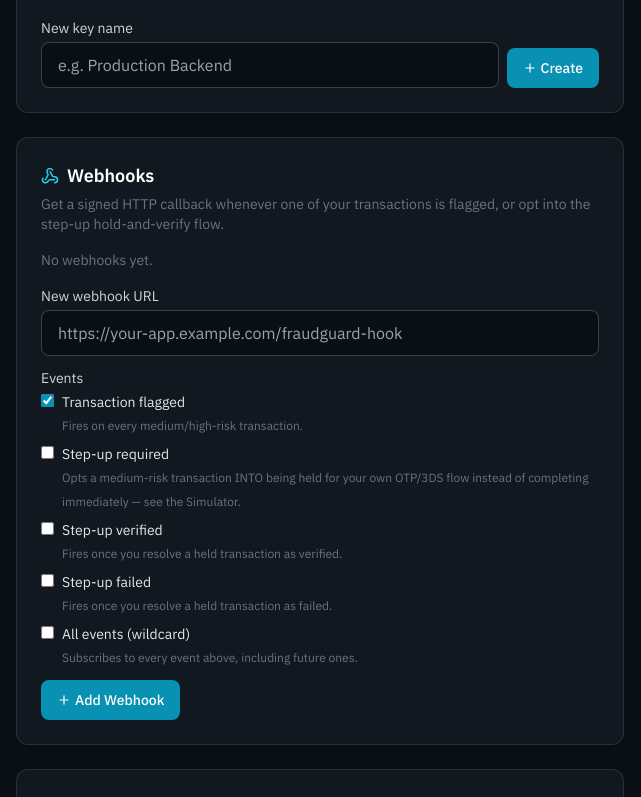
Test case: SettingsPage — webhook event subscriptions › unchecking every event disables the submit button
(page scrolled)
Expected: the heading "Webhooks" is shown, [67, 162, 154, 190]
Click the 1st checkbox: (48, 400) [41, 394, 54, 407]
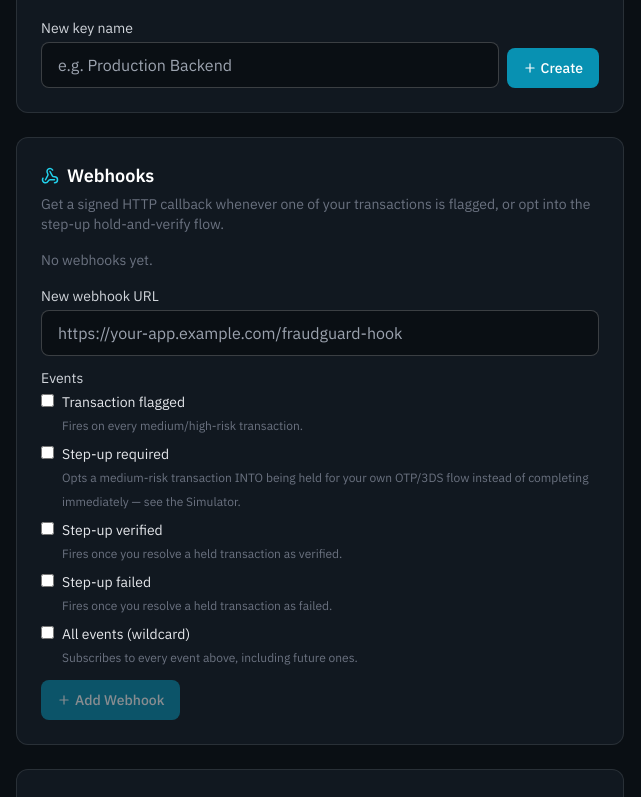
Expected: the button "Add Webhook" is disabled, [41, 680, 180, 720]
